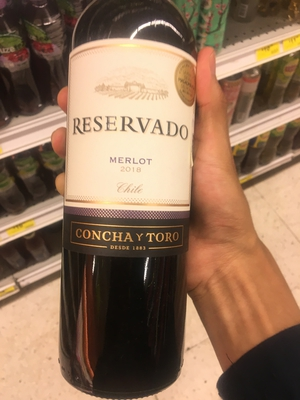reservado merlot: (55, 8, 204, 363)
